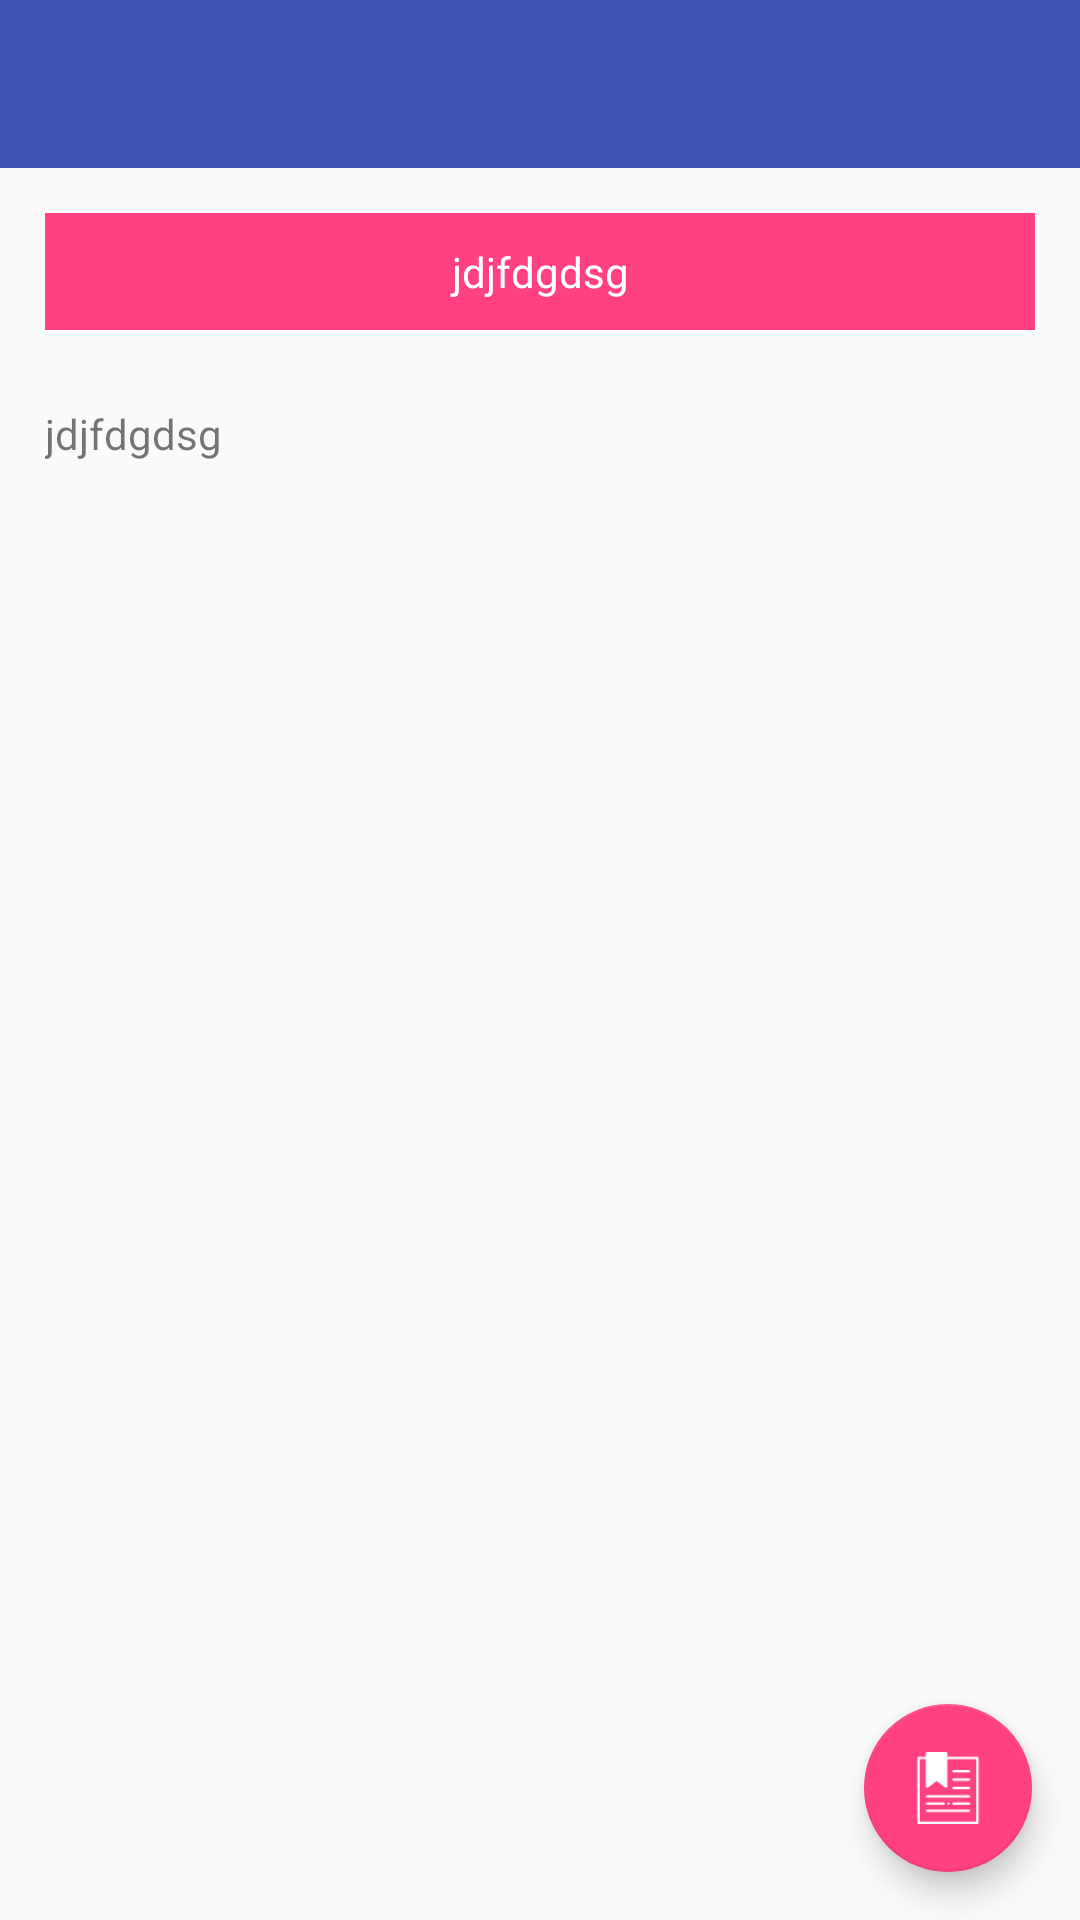

Icons on this 1080 x 1920 Android screen, each with the point to tap as (x,y):
bookmarked: (948,1788)
